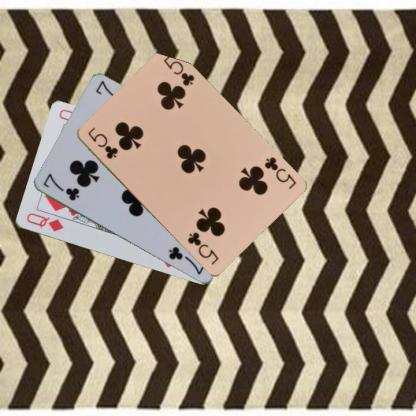5c: (261, 154, 297, 190), (85, 124, 119, 161)
7c: (40, 171, 81, 202)
Qd: (24, 210, 64, 233)
